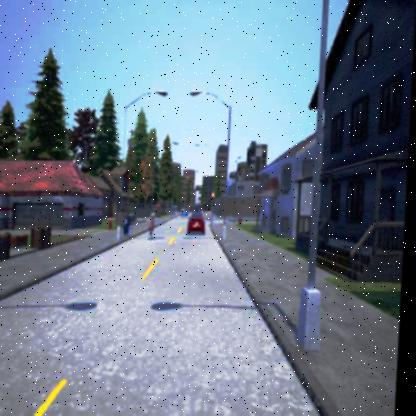bike: (147, 207, 160, 241)
vehicle: (189, 207, 208, 233)
